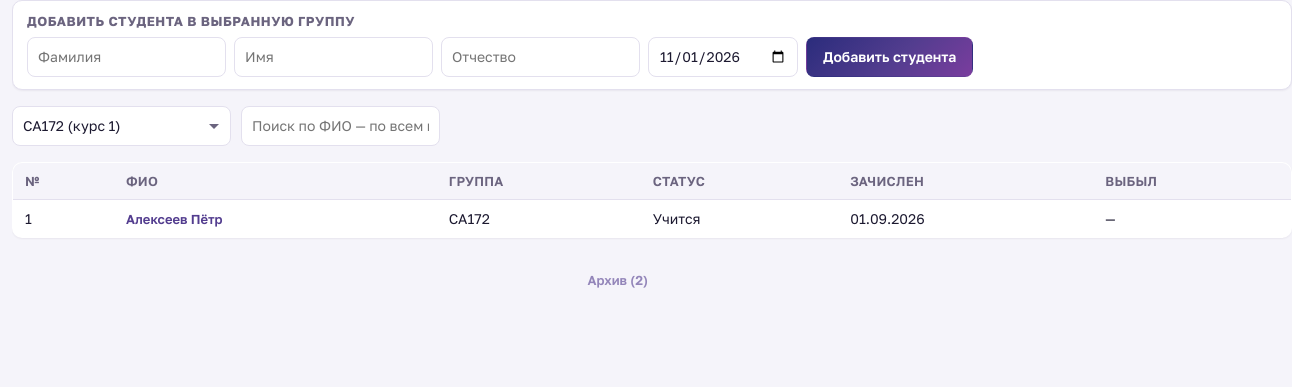
Test: StudentsTab › отчисленные и в академе спрятаны в архив, который раскрывается по клику
Expected: the link "Алексеев Пётр" is shown, x1=122 y1=209 x2=226 y2=229
Expected: the link "Андреева Елена" is not shown
Click the button "Архив (2)": (618, 280) x1=584 y1=270 x2=652 y2=290
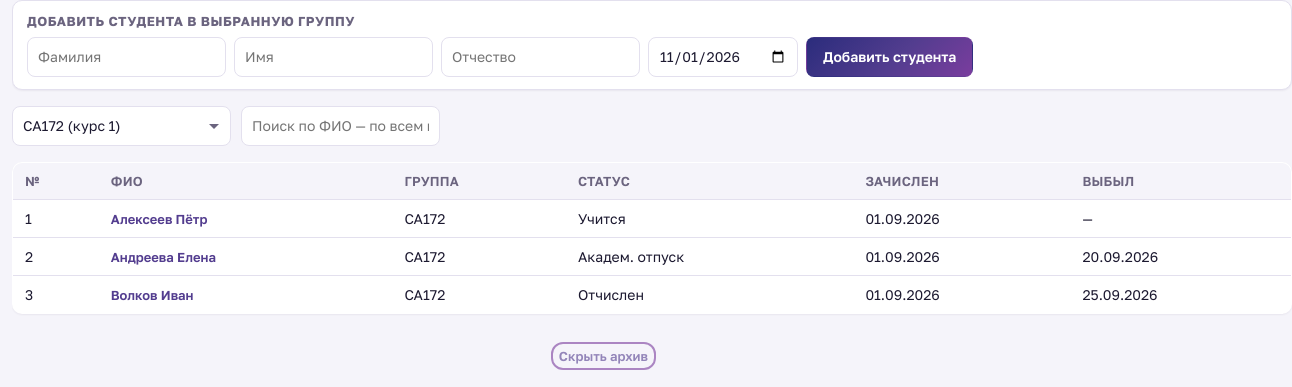
Expected: the text "20.09.2026" is shown, x1=1070 y1=238 x2=1291 y2=276
Expected: the link "Волков Иван" is shown, x1=107 y1=285 x2=198 y2=305
Click the button "Скрыть архив": (603, 356) x1=555 y1=346 x2=652 y2=366
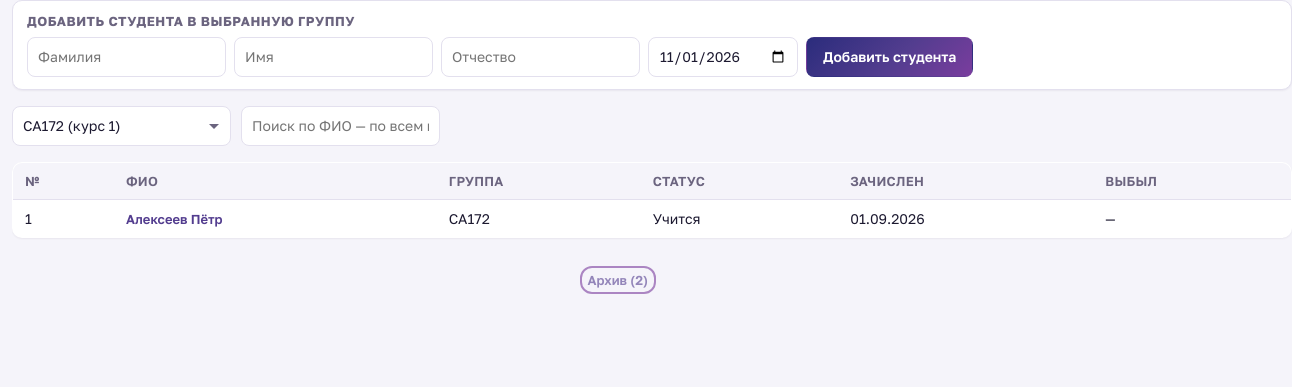
Expected: the link "Волков Иван" is gone
